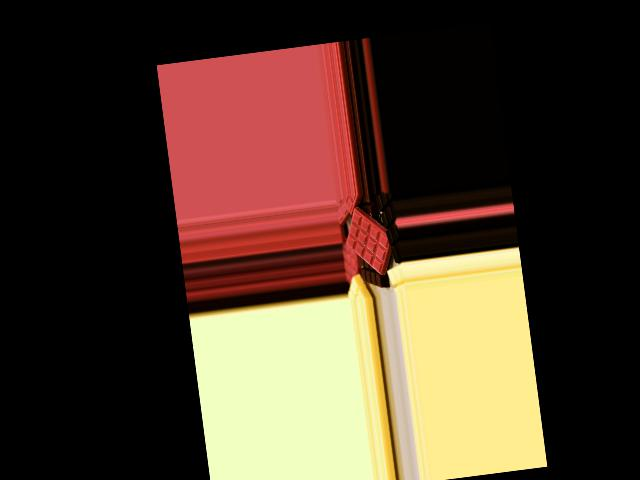chocolate: (340, 201, 404, 278)
